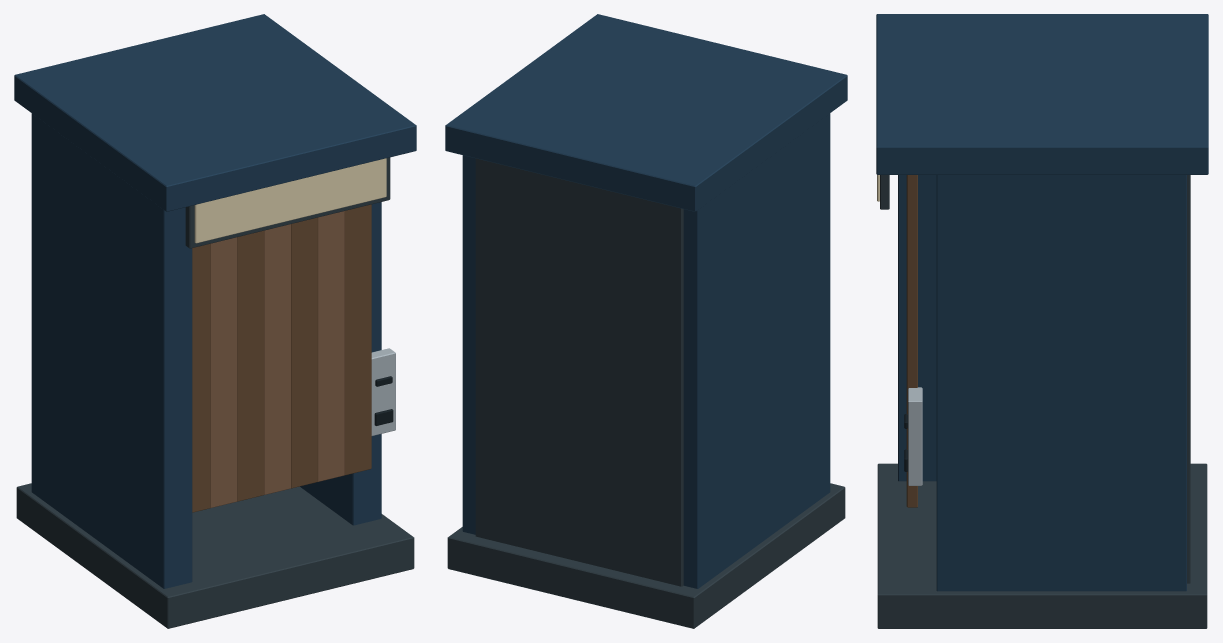
The model's file is b10_sidewalk_photo_booth.glb.
The picture shows the model from 3 angles, left to right: view 1: azimuth 30°, elevation 25°; view 2: azimuth 150°, elevation 25°; view 3: azimuth 270°, elevation 25°; orthographic projection. The views are drawn at different scales.
Visible parts, largest first — view 1: b10_sidewalk_photo_booth; view 2: b10_sidewalk_photo_booth; view 3: b10_sidewalk_photo_booth.
Part boxes in pixels (bbox=[...]): b10_sidewalk_photo_booth: bbox=[14, 14, 416, 628]; b10_sidewalk_photo_booth: bbox=[445, 14, 847, 628]; b10_sidewalk_photo_booth: bbox=[876, 14, 1208, 628].
Bounding box in the file's own units: 1.31 × 2.21 × 1.38.
